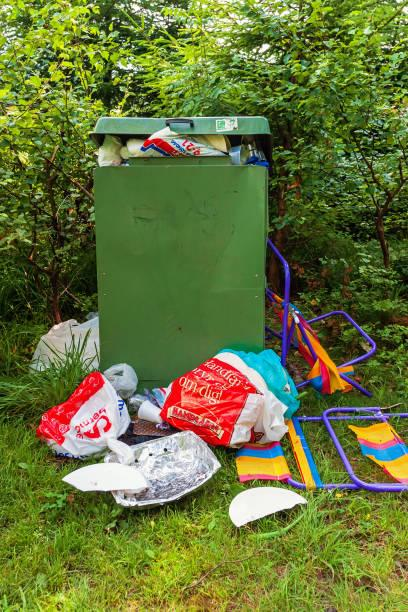trash: (262, 248, 376, 407), (266, 379, 408, 505), (157, 332, 298, 444), (88, 414, 237, 512), (80, 124, 284, 177), (49, 362, 131, 469), (29, 306, 108, 396), (216, 475, 307, 548), (123, 373, 182, 428), (99, 354, 142, 392)
trash_can_overflow: (37, 65, 352, 536)
